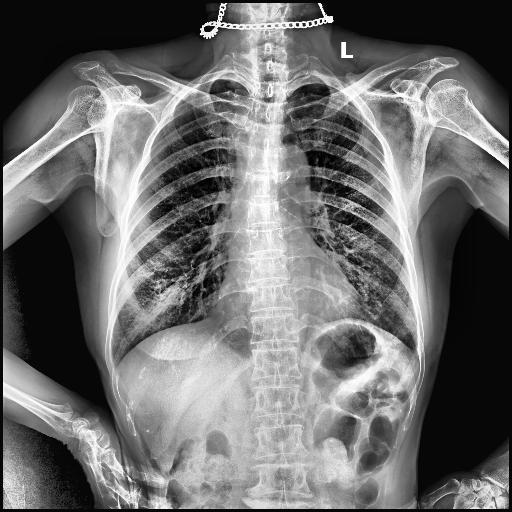0- Aortic enlargement: (265, 143, 313, 195), (268, 142, 312, 196), (264, 144, 310, 188)
11- Pleural thickening: (224, 78, 243, 88)
